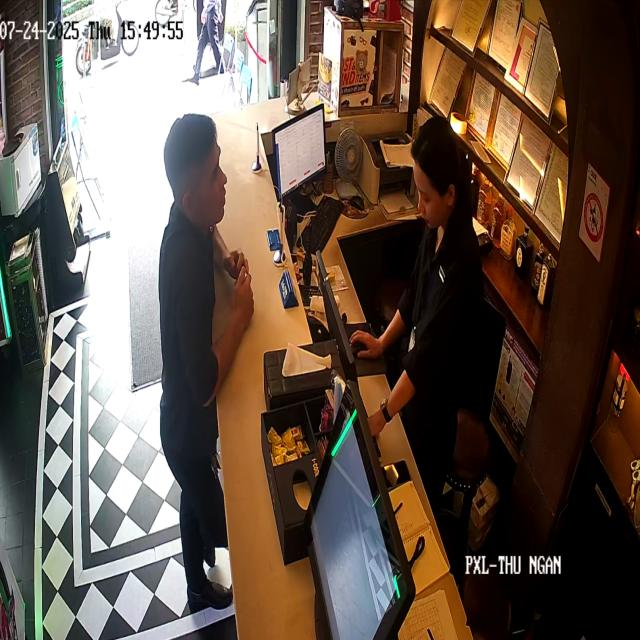nhan vien: (163, 114, 258, 600), (397, 98, 496, 450)
